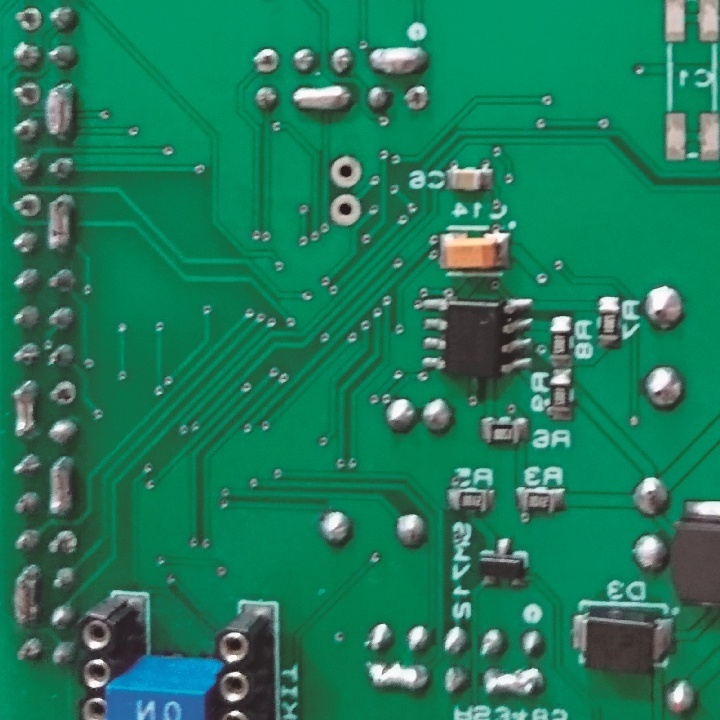F: (328, 154, 365, 189), (327, 192, 364, 226), (250, 46, 283, 78), (45, 529, 79, 558), (13, 5, 43, 36), (10, 80, 42, 107), (11, 193, 43, 220), (47, 380, 73, 408), (402, 86, 429, 111)
P: (365, 658, 434, 695), (43, 81, 79, 143), (481, 665, 544, 700), (290, 83, 356, 115), (367, 46, 429, 77), (11, 566, 41, 628), (10, 380, 39, 440), (49, 194, 77, 255), (47, 455, 73, 518)
